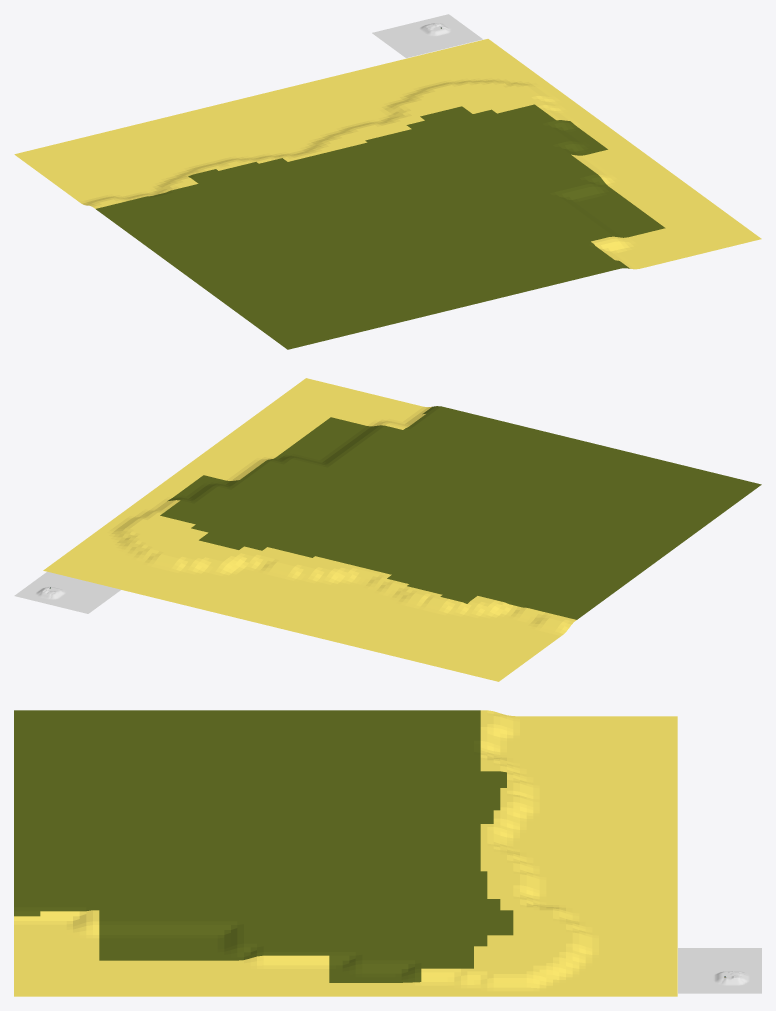
Rendered from MaailmanKaikkeus.fbx.
3 renders of one model, top to bottom at view 1: azimuth 30°, elevation 25°; view 2: azimuth 150°, elevation 25°; view 3: azimuth 270°, elevation 25°, orthographic. The views are drawn at different scales.
Parts seen in each view (by area): view 1: Plane.001, Plane; view 2: Plane.001, Plane; view 3: Plane.001, Plane.
Part boxes in pixels (box(x1,y1,x2,y2)): Plane.001: box(14, 39, 761, 349); Plane: box(372, 14, 482, 58); Plane.001: box(43, 378, 761, 681); Plane: box(14, 571, 120, 613); Plane.001: box(14, 710, 677, 996); Plane: box(678, 948, 761, 993).
Bounding box in the file's own units: 151582 × 1498 × 170819.
3 materials, 1 textured.
